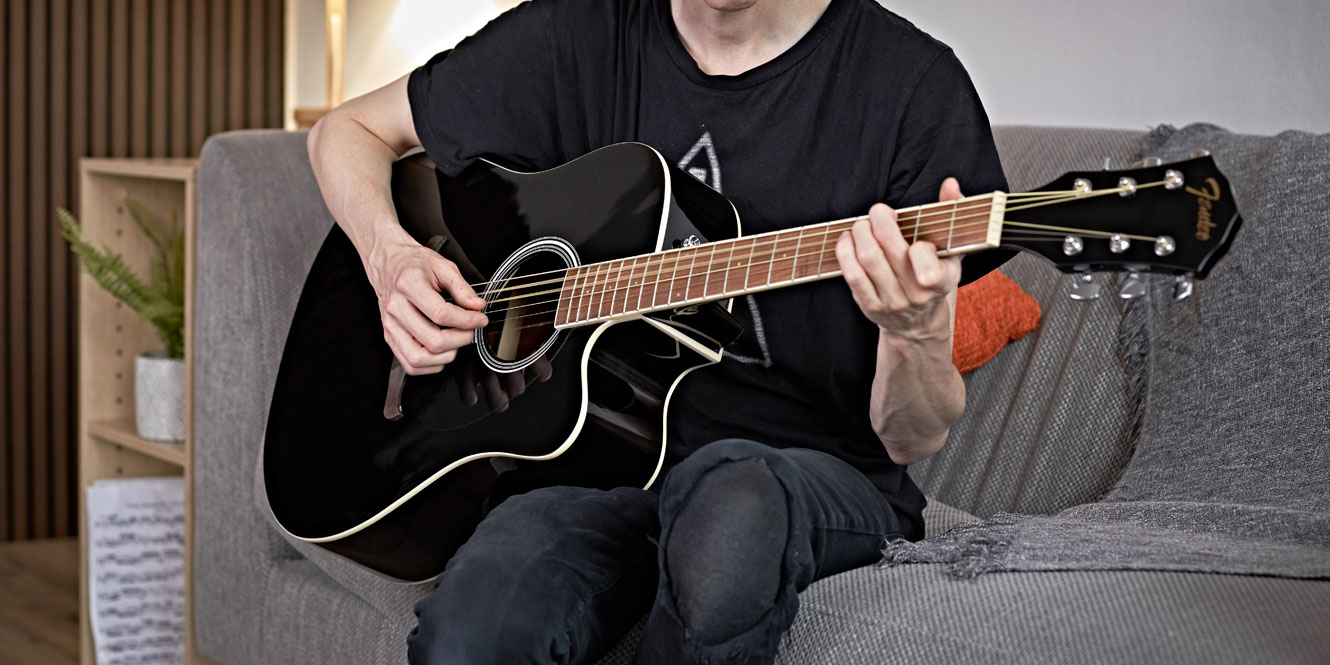guitar: (260, 127, 1256, 586)
